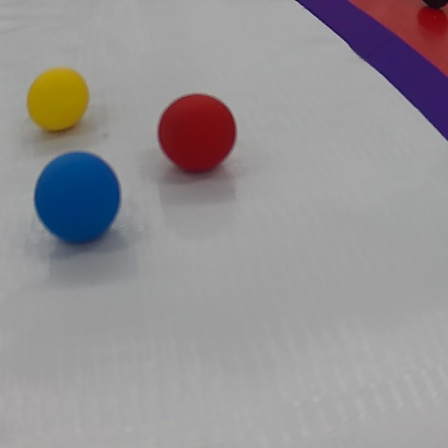blue: (32, 153, 128, 254)
red: (158, 90, 239, 173)
red_aim: (286, 1, 448, 139)
yellow: (25, 64, 91, 142)
